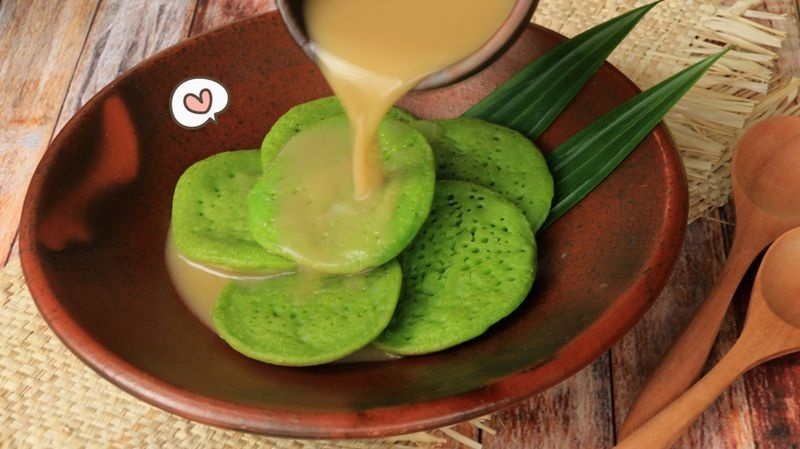srabi: (242, 88, 449, 260)
